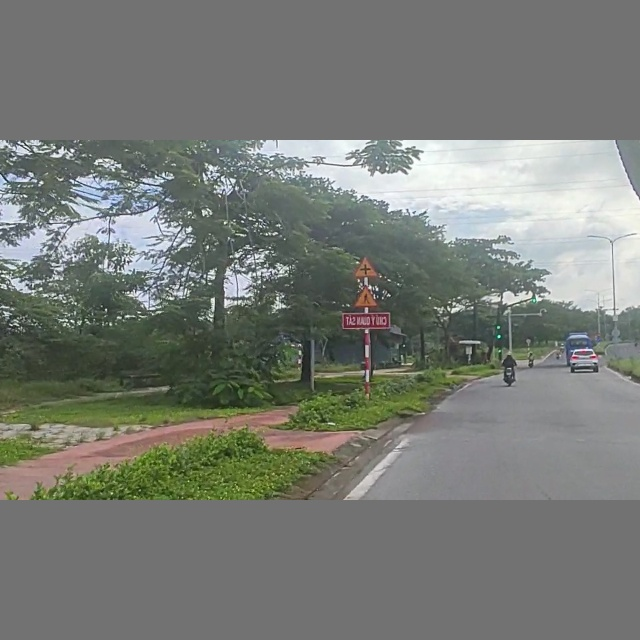W.205a: (353, 257, 377, 278)
W.224: (350, 284, 379, 308)
